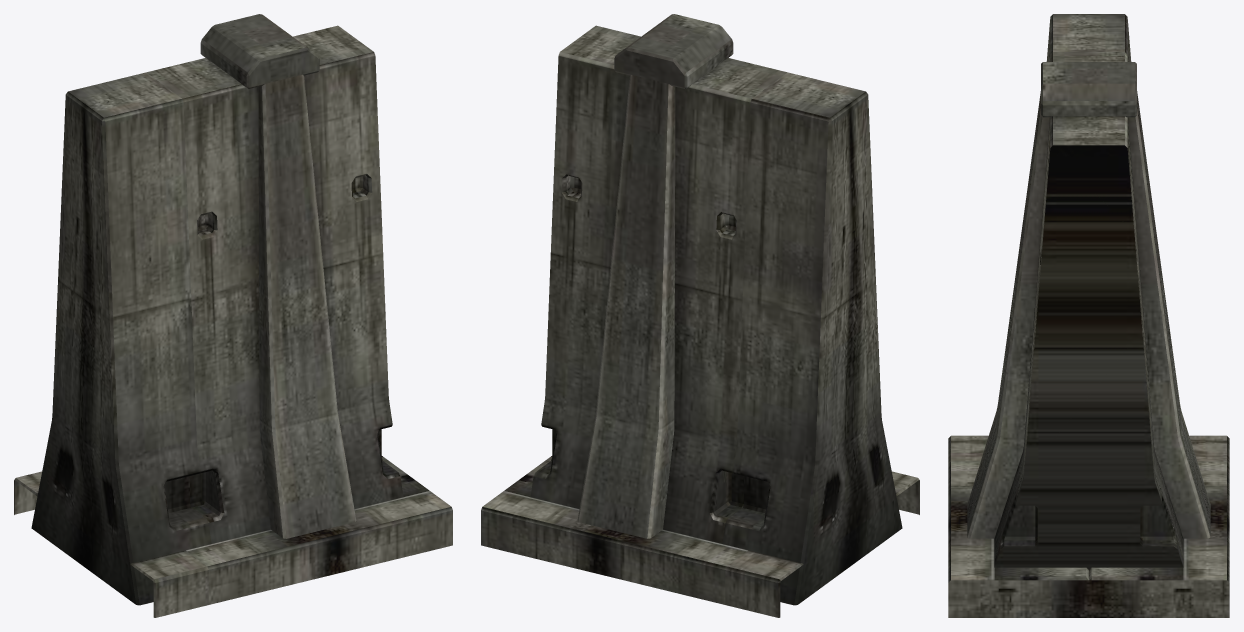
The model's file is stone-wall-w.glb.
The picture shows the model from 3 angles, left to right: view 1: azimuth 30°, elevation 25°; view 2: azimuth 150°, elevation 25°; view 3: azimuth 270°, elevation 25°; orthographic projection.
Visible parts, largest first — view 1: body; view 2: body; view 3: body.
Boxes of the visible parts, x1,y1,x2,y2 form: body: (14, 14, 452, 617); body: (481, 14, 919, 617); body: (948, 14, 1229, 617).
Size of the model in its own units: 0.8466 by 1.32 by 0.6932.
Materials: 1 (1 with a texture image).
